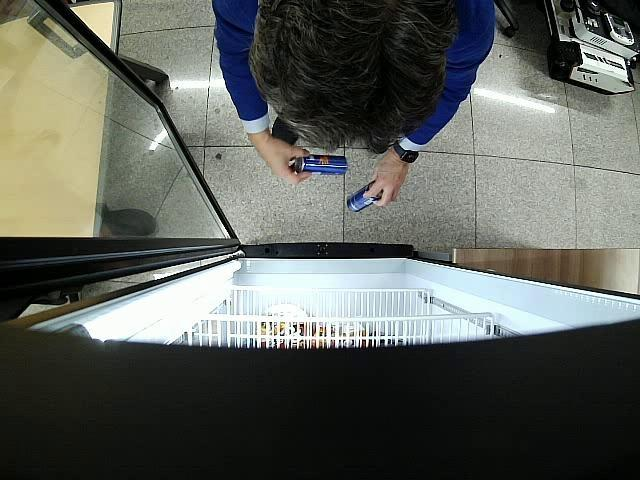16_hot6: (348, 179, 383, 212), (295, 154, 348, 175)
